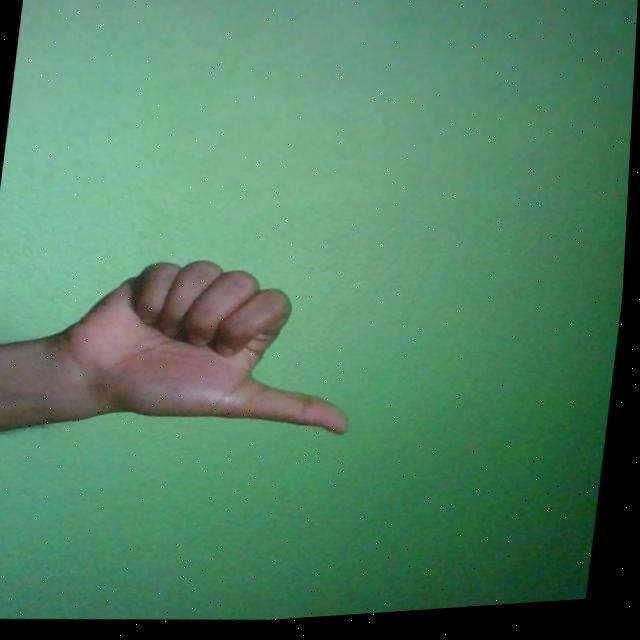Good Job: (46, 243, 373, 457)
